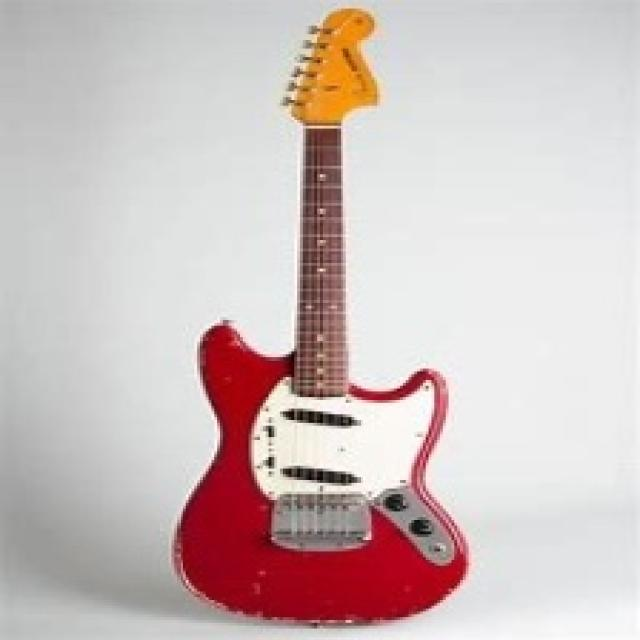guitar: (169, 8, 470, 626)
